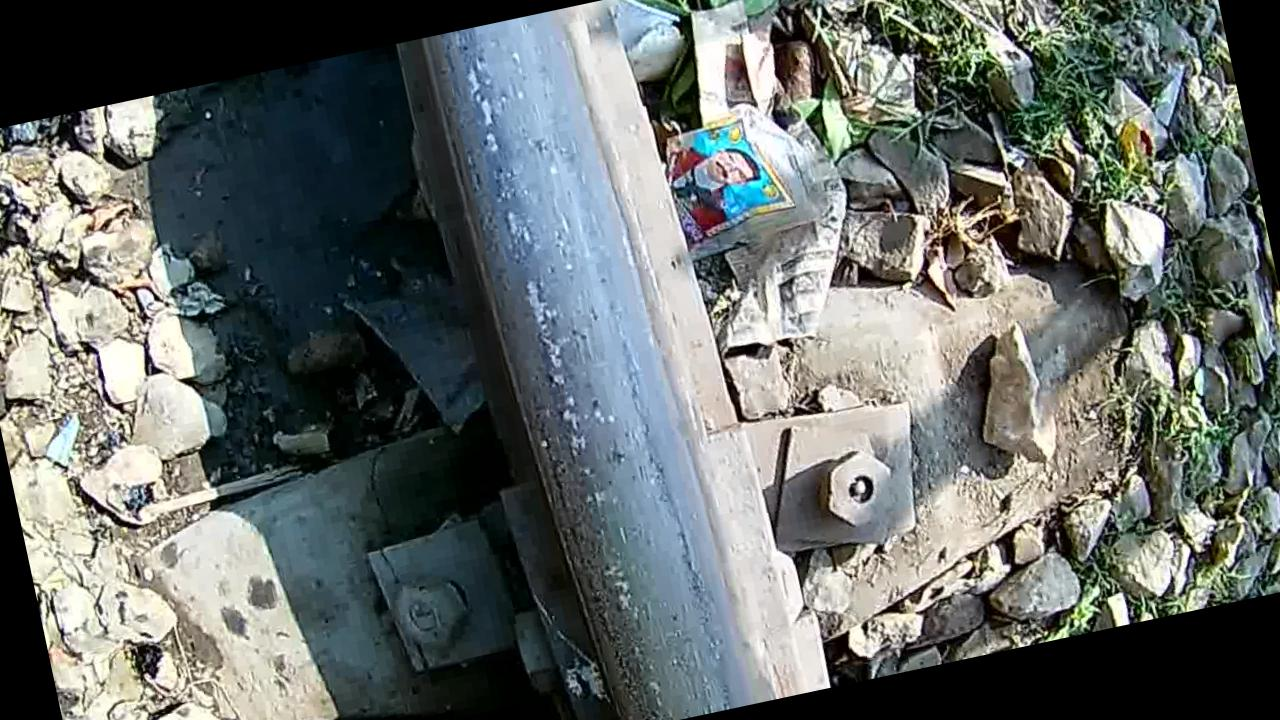clip_missing: (421, 0, 771, 720)
